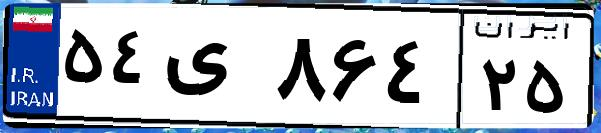2: (475, 38, 525, 113)
4: (385, 28, 445, 110), (110, 28, 158, 98)
5: (57, 26, 110, 100), (525, 38, 570, 115)
6: (330, 28, 385, 110)
8: (270, 28, 330, 110)
ی: (158, 20, 270, 120)
